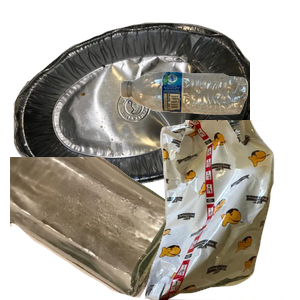glass: (10, 157, 190, 300)
metal: (11, 20, 251, 200)
plastic: (118, 69, 300, 176)
trash: (127, 120, 300, 300)
